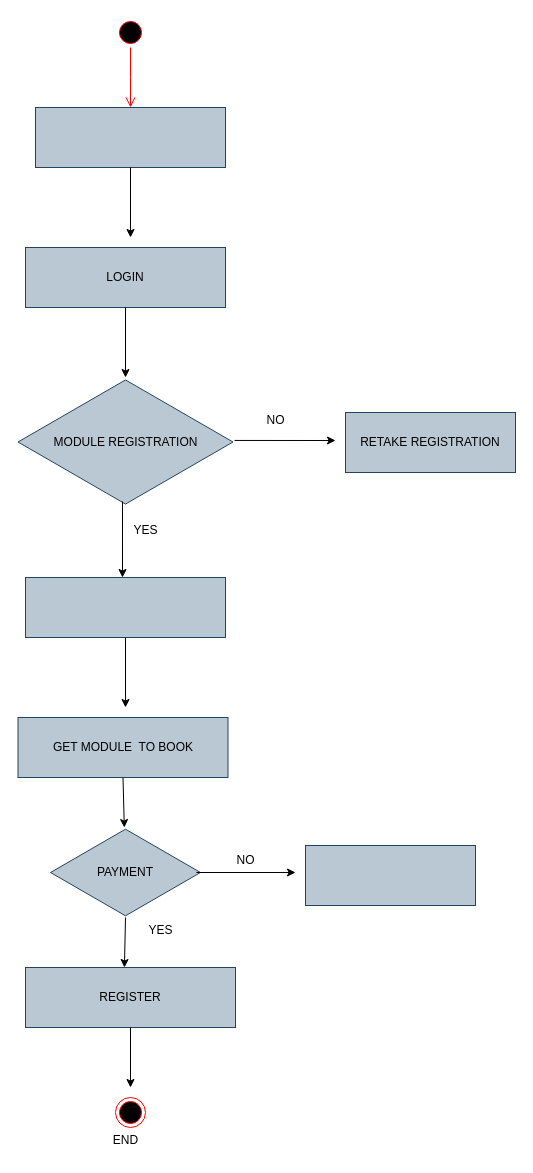
Some shapes in this 533 by 1173 pixel diagram are drawn without their labels. The shapes that lost their labels are listed below. From the top down, each one's centre as x and y in pixels, then its label:
(x=130, y=137): UOK PLATFORM
(x=125, y=607): FIRST ATTEMPT REGISTRATION
(x=390, y=875): NO REGISTER
